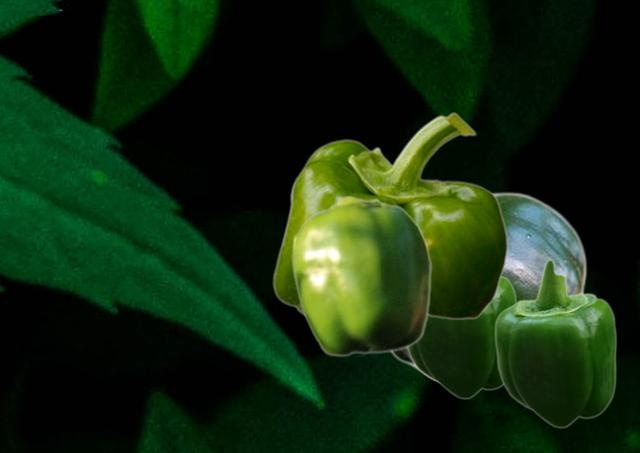bell_pepper: (272, 112, 507, 322), (391, 191, 586, 383), (291, 195, 431, 356), (493, 258, 616, 428), (407, 274, 517, 399)
